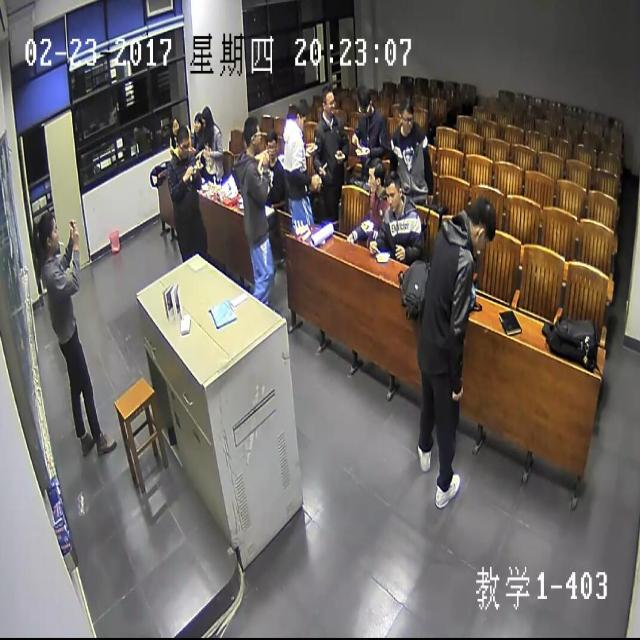person: (467, 194, 495, 254), (36, 204, 60, 254), (366, 154, 384, 194), (385, 170, 403, 210), (243, 111, 262, 148), (397, 98, 415, 136), (294, 94, 310, 132), (356, 82, 372, 117), (320, 82, 336, 113), (176, 124, 189, 160), (265, 128, 277, 158), (169, 111, 180, 137), (200, 104, 212, 127), (192, 109, 202, 131)
